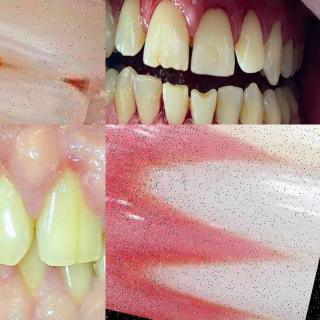Gum Swelling: (0, 125, 106, 202), (106, 224, 188, 314), (105, 124, 154, 243), (172, 0, 293, 47), (0, 272, 106, 320)
maligned: (130, 72, 166, 124)
stains: (236, 98, 252, 125), (260, 106, 280, 124), (136, 29, 148, 51), (183, 93, 197, 111), (278, 106, 292, 124), (232, 42, 243, 62), (214, 92, 223, 114)
